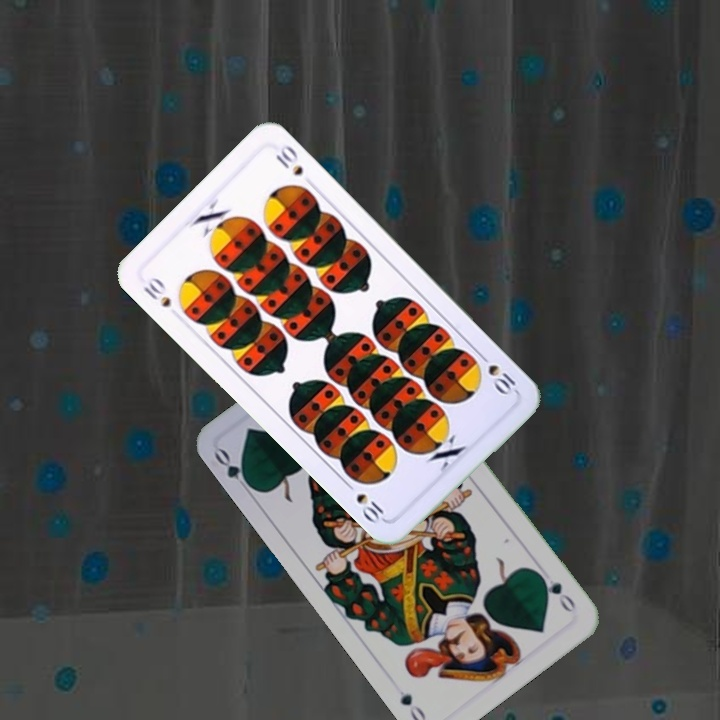GO: (210, 444, 257, 497), (534, 569, 578, 617)
S10: (474, 348, 519, 398), (139, 272, 174, 310)
